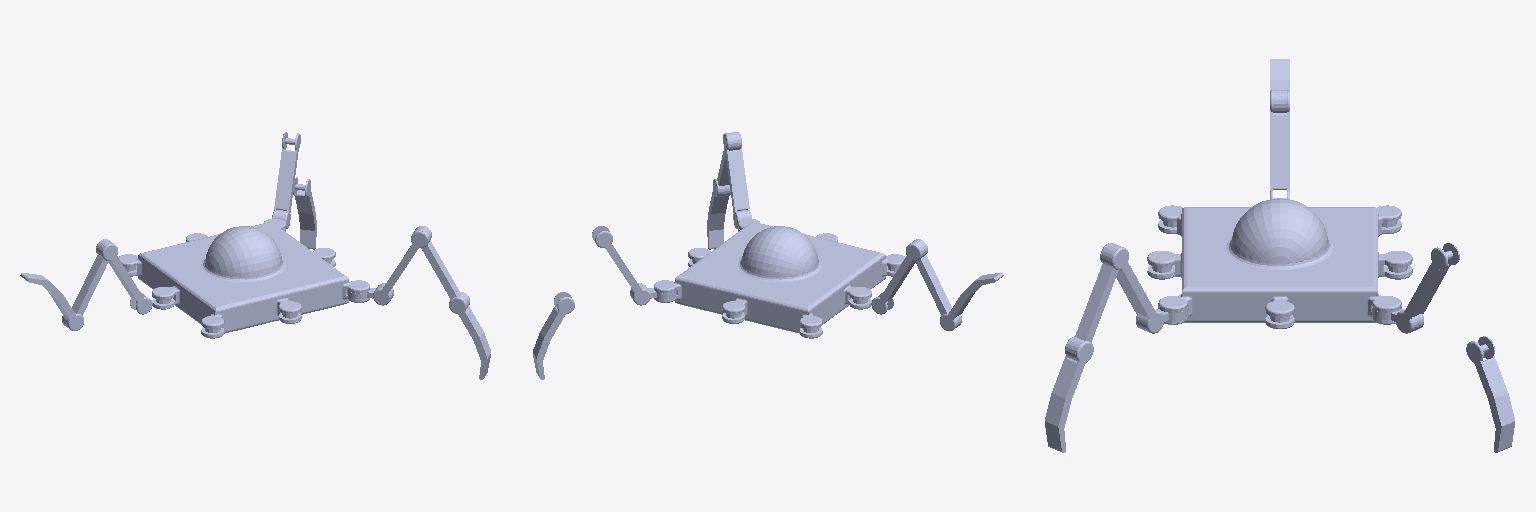
URDF robot description (SpiderBot_3Legs):
<?xml version="1.0" encoding="utf-8"?>
<robot
  name="SpiderBot_3Legs">
  <link
    name="body">
    <inertial>
      <origin
        xyz="-1.6455E-06 -2.7132E-06 0.13522"
        rpy="0 0 0" />
      <mass
        value="1.9509" />
      <inertia
        ixx="0.0068935"
        ixy="-1.5477E-07"
        ixz="-1.6748E-08"
        iyy="0.0068934"
        iyz="-2.768E-08"
        izz="0.012599" />
    </inertial>
    <visual>
      <origin
        xyz="0 0 0"
        rpy="0 0 0" />
      <geometry>
        <mesh
          filename="package://SpiderBot_3Legs/meshes/body.STL" />
      </geometry>
      <material
        name="">
        <color
          rgba="0.79216 0.81961 0.93333 1" />
      </material>
    </visual>
    <collision>
      <origin
        xyz="0 0 0"
        rpy="0 0 0" />
      <geometry>
        <mesh
          filename="package://SpiderBot_3Legs/meshes/body.STL" />
      </geometry>
    </collision>
  </link>
  <link
    name="link_L1_J1">
    <inertial>
      <origin
        xyz="0.0208533170560279 5.55111512312578E-17 -0.0120000000000001"
        rpy="0 0 0" />
      <mass
        value="0.00957341037321664" />
      <inertia
        ixx="6.35237498388445E-07"
        ixy="1.45583787809333E-21"
        ixz="1.62186169348837E-20"
        iyy="2.95388816018321E-06"
        iyz="-8.55851251114889E-22"
        izz="3.07273769122766E-06" />
    </inertial>
    <visual>
      <origin
        xyz="0 0 0"
        rpy="0 0 0" />
      <geometry>
        <mesh
          filename="package://SpiderBot_3Legs/meshes/link_L1_J1.STL" />
      </geometry>
      <material
        name="">
        <color
          rgba="0.792156862745098 0.819607843137255 0.933333333333333 1" />
      </material>
    </visual>
    <collision>
      <origin
        xyz="0 0 0"
        rpy="0 0 0" />
      <geometry>
        <mesh
          filename="package://SpiderBot_3Legs/meshes/link_L1_J1.STL" />
      </geometry>
    </collision>
  </link>
  <joint
    name="L1_J1"
    type="revolute">
    <origin
      xyz="0.108832033144844 -0.108832033144843 0.118000000000001"
      rpy="3.14159265358978 0 -0.785398163397437" />
    <parent
      link="body" />
    <child
      link="link_L1_J1" />
    <axis
      xyz="0 0 1" />
    <limit
      lower="0"
      upper="0"
      effort="0"
      velocity="0" />
  </joint>
  <link
    name="link_L1_J2">
    <inertial>
      <origin
        xyz="1.2490009027033E-16 -8.32667268468867E-17 0.0509087121146357"
        rpy="0 0 0" />
      <mass
        value="0.0214270498659543" />
      <inertia
        ixx="2.34021439622059E-05"
        ixy="3.3881317890172E-21"
        ixz="-6.62009187838439E-20"
        iyy="2.39989247736348E-05"
        iyz="5.15631306641055E-20"
        izz="1.16162974067387E-06" />
    </inertial>
    <visual>
      <origin
        xyz="0 0 0"
        rpy="0 0 0" />
      <geometry>
        <mesh
          filename="package://SpiderBot_3Legs/meshes/link_L1_J2.STL" />
      </geometry>
      <material
        name="">
        <color
          rgba="0.792156862745098 0.819607843137255 0.933333333333333 1" />
      </material>
    </visual>
    <collision>
      <origin
        xyz="0 0 0"
        rpy="0 0 0" />
      <geometry>
        <mesh
          filename="package://SpiderBot_3Legs/meshes/link_L1_J2.STL" />
      </geometry>
    </collision>
  </link>
  <joint
    name="L1_J2"
    type="revolute">
    <origin
      xyz="0.0329903810567685 0 -0.0119999999999972"
      rpy="-2.6179938779915 0 -1.5707963267949" />
    <parent
      link="link_L1_J1" />
    <child
      link="link_L1_J2" />
    <axis
      xyz="1 0 0" />
    <limit
      lower="0"
      upper="0"
      effort="0"
      velocity="0" />
  </joint>
  <link
    name="link_L1_J3">
    <inertial>
      <origin
        xyz="-0.0509087121146357 5.55111512312578E-17 -1.80411241501588E-16"
        rpy="0 0 0" />
      <mass
        value="0.0238433927437446" />
      <inertia
        ixx="1.0284985609508E-06"
        ixy="3.45430623802144E-20"
        ixz="-3.94664413861301E-20"
        iyy="3.82502554199004E-05"
        iyz="0"
        izz="3.83846267529608E-05" />
    </inertial>
    <visual>
      <origin
        xyz="0 0 0"
        rpy="0 0 0" />
      <geometry>
        <mesh
          filename="package://SpiderBot_3Legs/meshes/link_L1_J3.STL" />
      </geometry>
      <material
        name="">
        <color
          rgba="0.792156862745098 0.819607843137255 0.933333333333333 1" />
      </material>
    </visual>
    <collision>
      <origin
        xyz="0 0 0"
        rpy="0 0 0" />
      <geometry>
        <mesh
          filename="package://SpiderBot_3Legs/meshes/link_L1_J3.STL" />
      </geometry>
    </collision>
  </link>
  <joint
    name="L1_J3"
    type="revolute">
    <origin
      xyz="0 0 0.101817424229271"
      rpy="1.5707963267949 -0.523598775598305 1.57079632679489" />
    <parent
      link="link_L1_J2" />
    <child
      link="link_L1_J3" />
    <axis
      xyz="0 0 1" />
    <limit
      lower="0"
      upper="0"
      effort="0"
      velocity="0" />
  </joint>
  <link
    name="link_L1_J4">
    <inertial>
      <origin
        xyz="-2.43606079752823E-10 -0.00336940912784056 -0.0483315670397482"
        rpy="0 0 0" />
      <mass
        value="0.0205677845340441" />
      <inertia
        ixx="2.06704743841636E-05"
        ixy="2.0589781913943E-14"
        ixz="1.55720656617302E-13"
        iyy="2.05646985832854E-05"
        iyz="-2.80021798240062E-06"
        izz="1.64193171564564E-06" />
    </inertial>
    <visual>
      <origin
        xyz="0 0 0"
        rpy="0 0 0" />
      <geometry>
        <mesh
          filename="package://SpiderBot_3Legs/meshes/link_L1_J4.STL" />
      </geometry>
      <material
        name="">
        <color
          rgba="0.792156862745098 0.819607843137255 0.933333333333333 1" />
      </material>
    </visual>
    <collision>
      <origin
        xyz="0 0 0"
        rpy="0 0 0" />
      <geometry>
        <mesh
          filename="package://SpiderBot_3Legs/meshes/link_L1_J4.STL" />
      </geometry>
    </collision>
  </link>
  <joint
    name="L1_J4"
    type="revolute">
    <origin
      xyz="-0.101817424229271 0 0"
      rpy="0 1.57079630572147 0" />
    <parent
      link="link_L1_J3" />
    <child
      link="link_L1_J4" />
    <axis
      xyz="1 0 0" />
    <limit
      lower="0"
      upper="0"
      effort="0"
      velocity="0" />
  </joint>
  <link
    name="link_L2_J1">
    <inertial>
      <origin
        xyz="0.020853317056028 2.58745562202825E-15 -0.0120000000000005"
        rpy="0 0 0" />
      <mass
        value="0.00957341037321663" />
      <inertia
        ixx="6.35237498388445E-07"
        ixy="4.83735718269588E-20"
        ixz="-7.61119860771085E-22"
        iyy="2.95388816018321E-06"
        iyz="-7.75333643384985E-23"
        izz="3.07273769122765E-06" />
    </inertial>
    <visual>
      <origin
        xyz="0 0 0"
        rpy="0 0 0" />
      <geometry>
        <mesh
          filename="package://SpiderBot_3Legs/meshes/link_L2_J1.STL" />
      </geometry>
      <material
        name="">
        <color
          rgba="0.792156862745098 0.819607843137255 0.933333333333333 1" />
      </material>
    </visual>
    <collision>
      <origin
        xyz="0 0 0"
        rpy="0 0 0" />
      <geometry>
        <mesh
          filename="package://SpiderBot_3Legs/meshes/link_L2_J1.STL" />
      </geometry>
    </collision>
  </link>
  <joint
    name="L2_J1"
    type="revolute">
    <origin
      xyz="-0.12 0 0.118"
      rpy="3.14159265358979 0 -3.14159265358979" />
    <parent
      link="body" />
    <child
      link="link_L2_J1" />
    <axis
      xyz="0 0 1" />
    <limit
      lower="0"
      upper="0"
      effort="0"
      velocity="0" />
  </joint>
  <link
    name="link_L2_J2">
    <inertial>
      <origin
        xyz="-1.61680449544841E-15 4.16333634234434E-17 -0.0509087121146357"
        rpy="0 0 0" />
      <mass
        value="0.0214270498659542" />
      <inertia
        ixx="2.34021439622059E-05"
        ixy="9.24704574709577E-21"
        ixz="2.99752773227615E-19"
        iyy="2.39989247736348E-05"
        iyz="3.65282958503418E-21"
        izz="1.16162974067387E-06" />
    </inertial>
    <visual>
      <origin
        xyz="0 0 0"
        rpy="0 0 0" />
      <geometry>
        <mesh
          filename="package://SpiderBot_3Legs/meshes/link_L2_J2.STL" />
      </geometry>
      <material
        name="">
        <color
          rgba="0.792156862745098 0.819607843137255 0.933333333333333 1" />
      </material>
    </visual>
    <collision>
      <origin
        xyz="0 0 0"
        rpy="0 0 0" />
      <geometry>
        <mesh
          filename="package://SpiderBot_3Legs/meshes/link_L2_J2.STL" />
      </geometry>
    </collision>
  </link>
  <joint
    name="L2_J2"
    type="revolute">
    <origin
      xyz="0.0329903810567663 0 -0.0120000000000009"
      rpy="0.523598775598319 0 -1.5707963267949" />
    <parent
      link="link_L2_J1" />
    <child
      link="link_L2_J2" />
    <axis
      xyz="1 0 0" />
    <limit
      lower="0"
      upper="0"
      effort="0"
      velocity="0" />
  </joint>
  <link
    name="link_L2_J3">
    <inertial>
      <origin
        xyz="-0.0509087121146357 0 -7.01622119351565E-16"
        rpy="0 0 0" />
      <mass
        value="0.0238433927437446" />
      <inertia
        ixx="1.0284985609508E-06"
        ixy="-3.57342024622908E-21"
        ixz="2.66523269546072E-19"
        iyy="3.82502554199004E-05"
        iyz="-2.6725429713548E-21"
        izz="3.83846267529607E-05" />
    </inertial>
    <visual>
      <origin
        xyz="0 0 0"
        rpy="0 0 0" />
      <geometry>
        <mesh
          filename="package://SpiderBot_3Legs/meshes/link_L2_J3.STL" />
      </geometry>
      <material
        name="">
        <color
          rgba="0.792156862745098 0.819607843137255 0.933333333333333 1" />
      </material>
    </visual>
    <collision>
      <origin
        xyz="0 0 0"
        rpy="0 0 0" />
      <geometry>
        <mesh
          filename="package://SpiderBot_3Legs/meshes/link_L2_J3.STL" />
      </geometry>
    </collision>
  </link>
  <joint
    name="L2_J3"
    type="revolute">
    <origin
      xyz="0 0 -0.101817424229271"
      rpy="-1.5707963267949 0.5235987755983 -1.5707963267949" />
    <parent
      link="link_L2_J2" />
    <child
      link="link_L2_J3" />
    <axis
      xyz="0 0 1" />
    <limit
      lower="0"
      upper="0"
      effort="0"
      velocity="0" />
  </joint>
  <link
    name="link_L2_J4">
    <inertial>
      <origin
        xyz="-2.5622234820109E-10 -0.0401716602985852 0.0270837774161724"
        rpy="0 0 0" />
      <mass
        value="0.0205677845321001" />
      <inertia
        ixx="2.06704743858935E-05"
        ixy="1.31912105773198E-13"
        ixz="-9.97094644617843E-14"
        iyy="8.797683345262E-06"
        iyz="9.59390740268683E-06"
        izz="1.34089469552678E-05" />
    </inertial>
    <visual>
      <origin
        xyz="0 0 0"
        rpy="0 0 0" />
      <geometry>
        <mesh
          filename="package://SpiderBot_3Legs/meshes/link_L2_J4.STL" />
      </geometry>
      <material
        name="">
        <color
          rgba="0.792156862745098 0.819607843137255 0.933333333333333 1" />
      </material>
    </visual>
    <collision>
      <origin
        xyz="0 0 0"
        rpy="0 0 0" />
      <geometry>
        <mesh
          filename="package://SpiderBot_3Legs/meshes/link_L2_J4.STL" />
      </geometry>
    </collision>
  </link>
  <joint
    name="L2_J4"
    type="revolute">
    <origin
      xyz="-0.101817424229271 0 0"
      rpy="2.09439510239322 1.5707963267949 0" />
    <parent
      link="link_L2_J3" />
    <child
      link="link_L2_J4" />
    <axis
      xyz="1 0 0" />
    <limit
      lower="0"
      upper="0"
      effort="0"
      velocity="0" />
  </joint>
  <link
    name="link_L3_J1">
    <inertial>
      <origin
        xyz="0.0208533170560279 -9.71445146547012E-17 -0.0120000000000002"
        rpy="0 0 0" />
      <mass
        value="0.00957341037321664" />
      <inertia
        ixx="6.35237498388445E-07"
        ixy="-1.85288457211878E-22"
        ixz="1.61571029135456E-20"
        iyy="2.95388816018321E-06"
        iyz="9.35076574667276E-22"
        izz="3.07273769122766E-06" />
    </inertial>
    <visual>
      <origin
        xyz="0 0 0"
        rpy="0 0 0" />
      <geometry>
        <mesh
          filename="package://SpiderBot_3Legs/meshes/link_L3_J1.STL" />
      </geometry>
      <material
        name="">
        <color
          rgba="0.792156862745098 0.819607843137255 0.933333333333333 1" />
      </material>
    </visual>
    <collision>
      <origin
        xyz="0 0 0"
        rpy="0 0 0" />
      <geometry>
        <mesh
          filename="package://SpiderBot_3Legs/meshes/link_L3_J1.STL" />
      </geometry>
    </collision>
  </link>
  <joint
    name="L3_J1"
    type="revolute">
    <origin
      xyz="0.108832033144843 0.108832033144844 0.118000000000001"
      rpy="-3.14159265358979 0 0.785398163397464" />
    <parent
      link="body" />
    <child
      link="link_L3_J1" />
    <axis
      xyz="0 0 1" />
    <limit
      lower="0"
      upper="0"
      effort="0"
      velocity="0" />
  </joint>
  <link
    name="link_L3_J2">
    <inertial>
      <origin
        xyz="1.38777878078145E-17 -6.28663787693995E-15 0.0509087121146328"
        rpy="0 0 0" />
      <mass
        value="0.0214270498659542" />
      <inertia
        ixx="2.34021439622059E-05"
        ixy="8.470329472543E-22"
        ixz="-1.91905902112302E-20"
        iyy="2.39989247736348E-05"
        iyz="3.36430898737567E-20"
        izz="1.16162974067387E-06" />
    </inertial>
    <visual>
      <origin
        xyz="0 0 0"
        rpy="0 0 0" />
      <geometry>
        <mesh
          filename="package://SpiderBot_3Legs/meshes/link_L3_J2.STL" />
      </geometry>
      <material
        name="">
        <color
          rgba="0.792156862745098 0.819607843137255 0.933333333333333 1" />
      </material>
    </visual>
    <collision>
      <origin
        xyz="0 0 0"
        rpy="0 0 0" />
      <geometry>
        <mesh
          filename="package://SpiderBot_3Legs/meshes/link_L3_J2.STL" />
      </geometry>
    </collision>
  </link>
  <joint
    name="L3_J2"
    type="revolute">
    <origin
      xyz="0.0329903810567665 0 -0.0120000000000004"
      rpy="-2.61799387799149 0 -1.5707963267949" />
    <parent
      link="link_L3_J1" />
    <child
      link="link_L3_J2" />
    <axis
      xyz="1 0 0" />
    <limit
      lower="0"
      upper="0"
      effort="0"
      velocity="0" />
  </joint>
  <link
    name="link_L3_J3">
    <inertial>
      <origin
        xyz="-0.0509087121146358 0 1.66533453693773E-16"
        rpy="0 0 0" />
      <mass
        value="0.0238433927437446" />
      <inertia
        ixx="1.0284985609508E-06"
        ixy="-4.56603698129271E-20"
        ixz="4.22987078035116E-20"
        iyy="3.82502554199004E-05"
        iyz="-5.0821976835258E-21"
        izz="3.83846267529607E-05" />
    </inertial>
    <visual>
      <origin
        xyz="0 0 0"
        rpy="0 0 0" />
      <geometry>
        <mesh
          filename="package://SpiderBot_3Legs/meshes/link_L3_J3.STL" />
      </geometry>
      <material
        name="">
        <color
          rgba="0.792156862745098 0.819607843137255 0.933333333333333 1" />
      </material>
    </visual>
    <collision>
      <origin
        xyz="0 0 0"
        rpy="0 0 0" />
      <geometry>
        <mesh
          filename="package://SpiderBot_3Legs/meshes/link_L3_J3.STL" />
      </geometry>
    </collision>
  </link>
  <joint
    name="L3_J3"
    type="revolute">
    <origin
      xyz="0 0 0.101817424229268"
      rpy="1.5707963267949 -0.523598775598301 1.5707963267949" />
    <parent
      link="link_L3_J2" />
    <child
      link="link_L3_J3" />
    <axis
      xyz="0 0 1" />
    <limit
      lower="0"
      upper="0"
      effort="0"
      velocity="0" />
  </joint>
  <link
    name="link_L3_J4">
    <inertial>
      <origin
        xyz="-2.4360616301955E-10 -0.00336940912784056 -0.0483315670397482"
        rpy="0 0 0" />
      <mass
        value="0.020567784534044" />
      <inertia
        ixx="2.06704743841635E-05"
        ixy="2.05897853020748E-14"
        ixz="1.55720700768894E-13"
        iyy="2.05646985832853E-05"
        iyz="-2.80021798240061E-06"
        izz="1.64193171564563E-06" />
    </inertial>
    <visual>
      <origin
        xyz="0 0 0"
        rpy="0 0 0" />
      <geometry>
        <mesh
          filename="package://SpiderBot_3Legs/meshes/link_L3_J4.STL" />
      </geometry>
      <material
        name="">
        <color
          rgba="0.792156862745098 0.819607843137255 0.933333333333333 1" />
      </material>
    </visual>
    <collision>
      <origin
        xyz="0 0 0"
        rpy="0 0 0" />
      <geometry>
        <mesh
          filename="package://SpiderBot_3Legs/meshes/link_L3_J4.STL" />
      </geometry>
    </collision>
  </link>
  <joint
    name="L3_J4"
    type="revolute">
    <origin
      xyz="-0.101817424229271 0 0"
      rpy="0 1.5707963267949 0" />
    <parent
      link="link_L3_J3" />
    <child
      link="link_L3_J4" />
    <axis
      xyz="1 0 0" />
    <limit
      lower="0"
      upper="0"
      effort="0"
      velocity="0" />
  </joint>
</robot>

--- Render facts (derived) ---
3 views of the same robot in one strip: view 1: azimuth 30°, elevation 25°; view 2: azimuth 150°, elevation 25°; view 3: azimuth 270°, elevation 25° (orthographic).
Robot: SpiderBot_3Legs — 13 links, 12 joints (12 revolute); root link body; default pose: all joints at 0.
Links seen in each view (by area): view 1: body, link_L3_J2, link_L3_J4, link_L1_J4, link_L2_J2, link_L2_J3, link_L1_J2, link_L1_J3, link_L2_J4; view 2: body, link_L1_J2, link_L3_J4, link_L2_J2, link_L3_J2, link_L2_J3, link_L1_J4, link_L2_J4, link_L1_J3; view 3: body, link_L3_J4, link_L1_J4, link_L1_J3, link_L3_J2, link_L2_J2, link_L1_J2, link_L2_J4.
Link boxes in pixels (box(x1,y1,x2,y2)): body: box(118, 219, 369, 338); link_L3_J2: box(272, 132, 300, 228); link_L3_J4: box(293, 177, 316, 249); link_L1_J4: box(449, 292, 490, 379); link_L2_J2: box(96, 239, 152, 314); link_L2_J3: box(62, 239, 113, 327); link_L1_J2: box(373, 226, 431, 305); link_L1_J3: box(413, 226, 469, 307); link_L2_J4: box(20, 273, 83, 330); body: box(654, 219, 905, 338); link_L1_J2: box(723, 132, 751, 228); link_L3_J4: box(533, 292, 574, 379); link_L2_J2: box(871, 239, 927, 314); link_L3_J2: box(592, 226, 650, 305); link_L2_J3: box(910, 239, 961, 327); link_L1_J4: box(707, 179, 730, 249); link_L2_J4: box(940, 273, 1003, 330); link_L1_J3: box(717, 132, 740, 196); body: box(1147, 198, 1412, 328); link_L3_J4: box(1466, 336, 1514, 452); link_L1_J4: box(1045, 336, 1093, 452); link_L1_J3: box(1066, 243, 1123, 361); link_L3_J2: box(1396, 243, 1459, 333); link_L2_J2: box(1270, 90, 1289, 198); link_L1_J2: box(1100, 243, 1163, 333); link_L2_J4: box(1270, 59, 1289, 90).
Size in the robot's own frame: 0.5669 by 0.4791 by 0.2019 metres.
11 mesh visuals loaded from 13 distinct referenced files (11 binary STL); not drawn: 2 (reference not matched to a file when rendering).